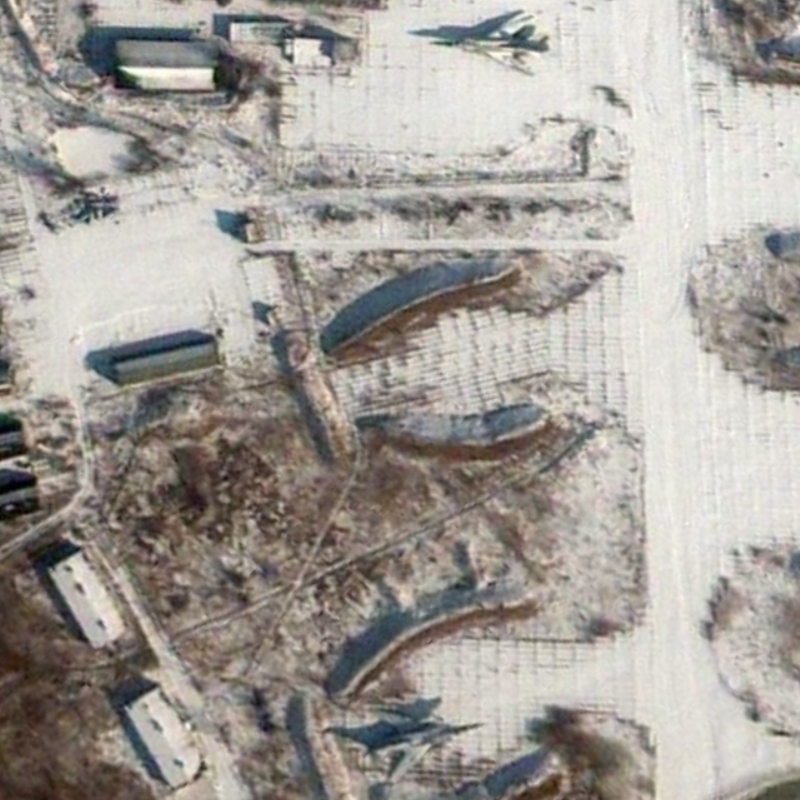A12: (358, 700, 489, 787), (427, 7, 553, 81)
